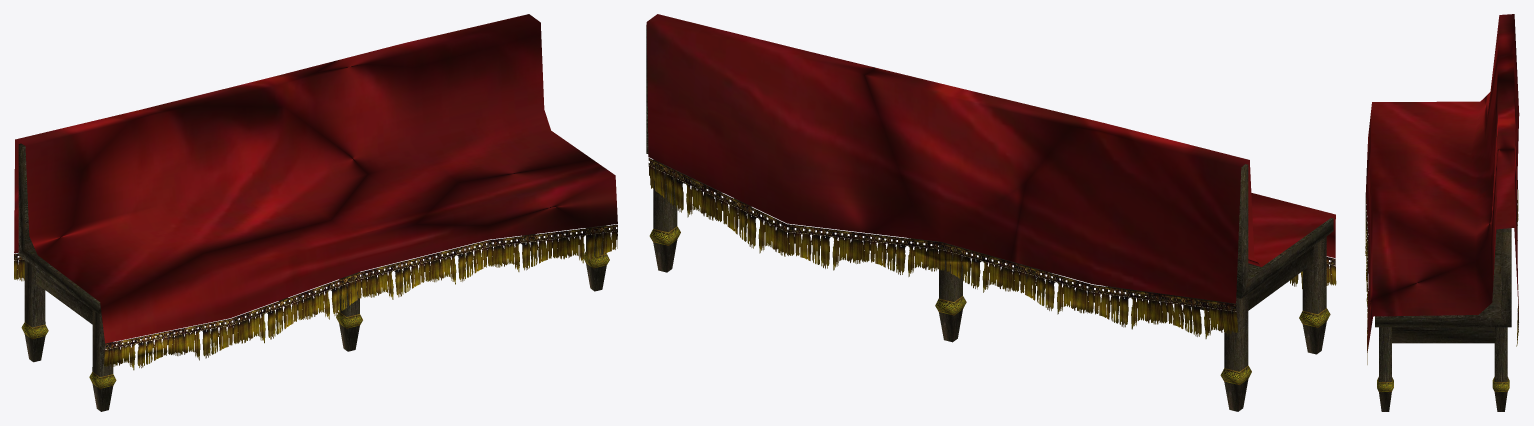
The model's file is KM_VOB_SOFA_01.glb.
3 views of the same model, side by side, from view 1: azimuth 30°, elevation 25°; view 2: azimuth 150°, elevation 25°; view 3: azimuth 270°, elevation 25° (orthographic). The views are drawn at different scales.
Parts seen in each view (by area): view 1: Mesh; view 2: Mesh; view 3: Mesh.
Part boxes in pixels (<box>): Mesh: <box>14,14,617,411</box>; Mesh: <box>646,14,1336,411</box>; Mesh: <box>1365,14,1519,411</box>.
Size of the model in its own units: 2.63 by 1.06 by 0.7955.
4 materials, 4 textured.
